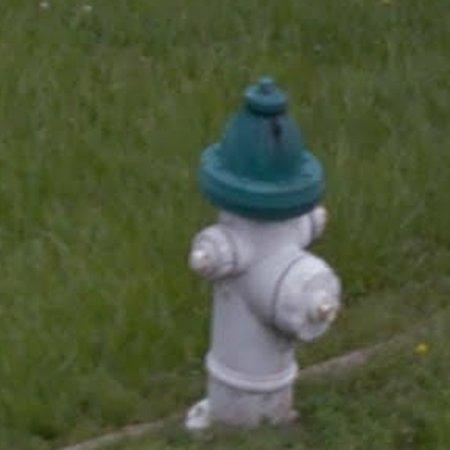a fire hydrant: (186, 76, 341, 429)
